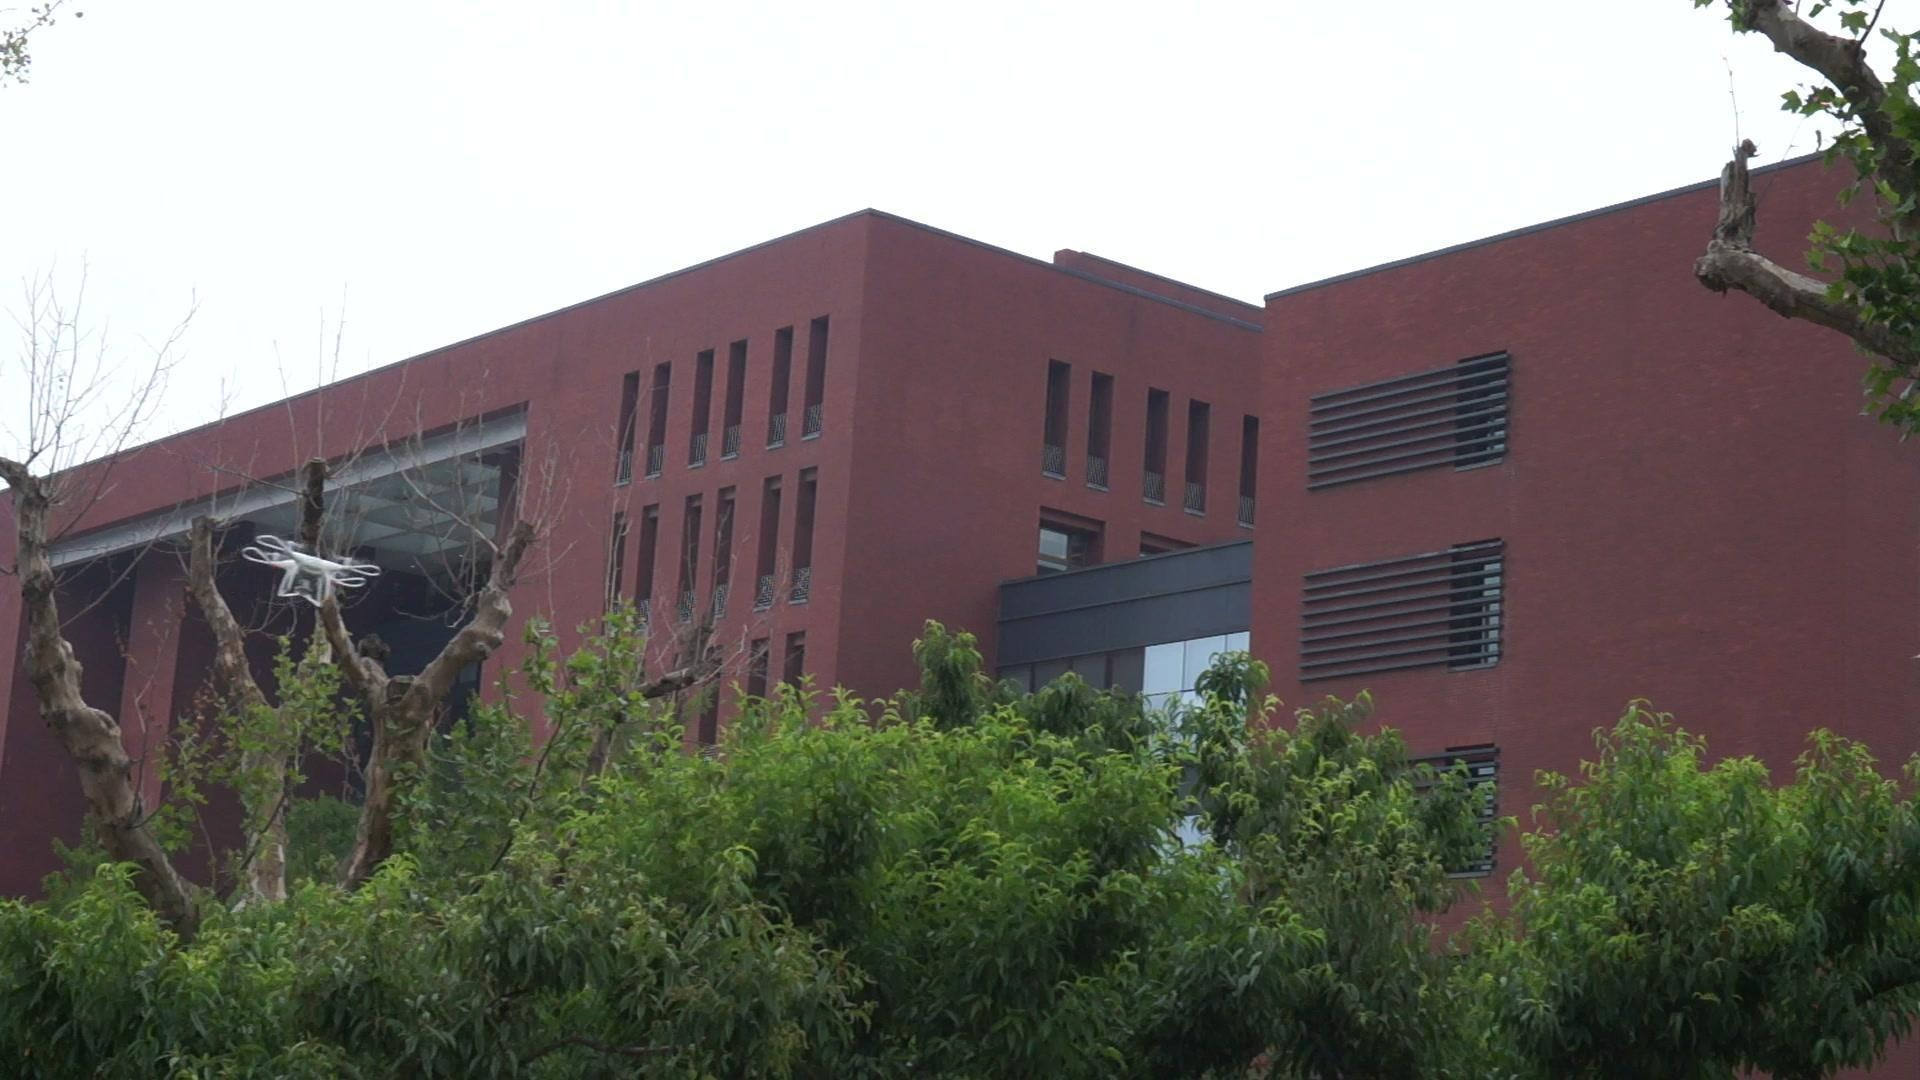UAV: (243, 535, 382, 608)
